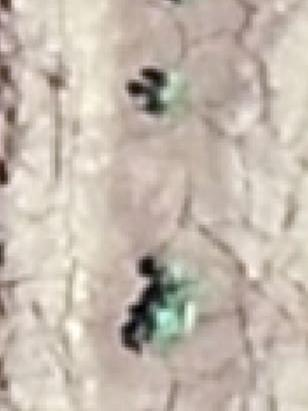cotton: (149, 304, 187, 338), (162, 267, 195, 299), (164, 72, 187, 108)
